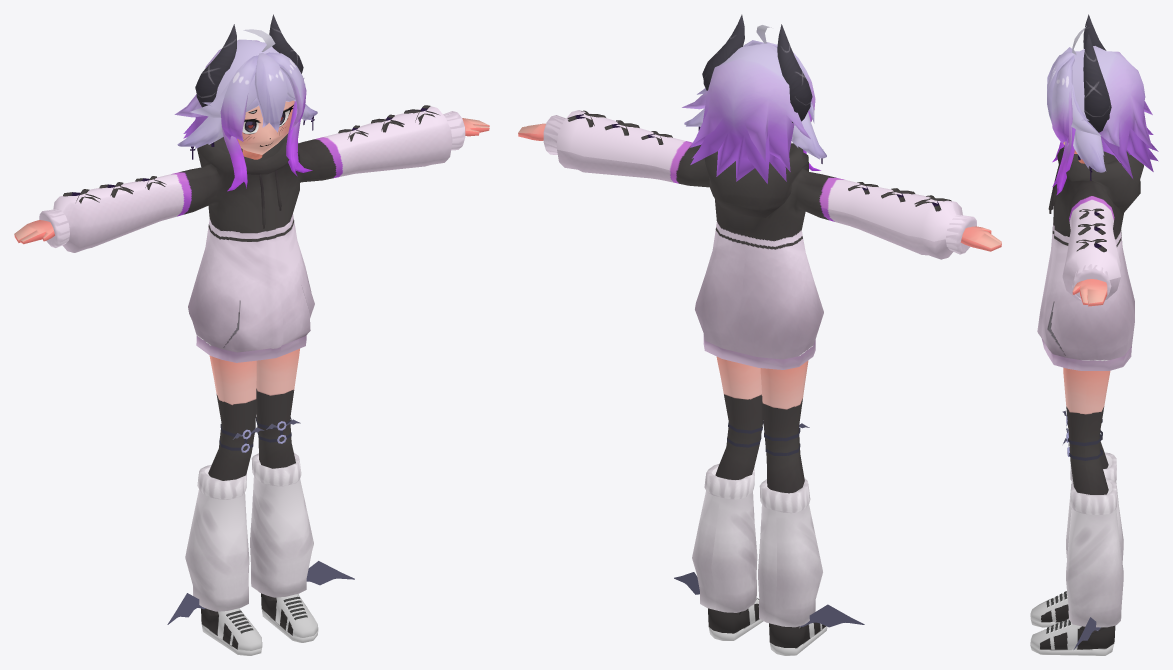
File: quarzite-low-poly.glb
The picture shows the model from 3 angles, left to right: view 1: azimuth 30°, elevation 25°; view 2: azimuth 150°, elevation 25°; view 3: azimuth 270°, elevation 25°; orthographic projection.
Parts seen in each view (by area): view 1: Cube, Cube.001, Cube.002, Cube.006, Trainers_01, Plane.002, Cube.003, Cylinder, Plane, Cube.005; view 2: Cube, Cube.001, Cube.006, Cube.002, Trainers_01, Plane.002, Cylinder, Cube.005; view 3: Cube, Cube.006, Cube.001, Cube.002, Trainers_01, Cylinder, Plane.002, Cube.005, Cube.003.
Part boxes in pixels (bbox=[...]): Cube: bbox=[39, 106, 465, 362]; Cube.001: bbox=[185, 453, 313, 611]; Cube.002: bbox=[208, 348, 299, 615]; Cube.006: bbox=[174, 39, 317, 191]; Trainers_01: bbox=[201, 593, 318, 655]; Plane.002: bbox=[63, 105, 438, 624]; Cube.003: bbox=[243, 29, 287, 132]; Cylinder: bbox=[195, 14, 303, 107]; Plane: bbox=[237, 100, 294, 159]; Cube.005: bbox=[14, 118, 489, 244]; Cube: bbox=[543, 110, 976, 369]; Cube.001: bbox=[692, 463, 822, 627]; Cube.006: bbox=[682, 40, 826, 183]; Cube.002: bbox=[715, 356, 808, 628]; Trainers_01: bbox=[708, 598, 827, 655]; Plane.002: bbox=[567, 110, 951, 627]; Cylinder: bbox=[702, 14, 812, 122]; Cube.005: bbox=[518, 123, 1001, 251]; Cube: bbox=[1037, 145, 1143, 370]; Cube.006: bbox=[1051, 46, 1158, 195]; Cube.001: bbox=[1066, 452, 1123, 627]; Cube.002: bbox=[1063, 367, 1110, 633]; Trainers_01: bbox=[1030, 591, 1115, 655]; Cylinder: bbox=[1083, 14, 1111, 132]; Plane.002: bbox=[1062, 155, 1106, 649]; Cube.005: bbox=[1072, 279, 1107, 306]; Cube.003: bbox=[1047, 26, 1086, 123].
Size of the model in its own units: 18.67 by 23.07 by 4.39.
Materials: 1 (1 with a texture image).
